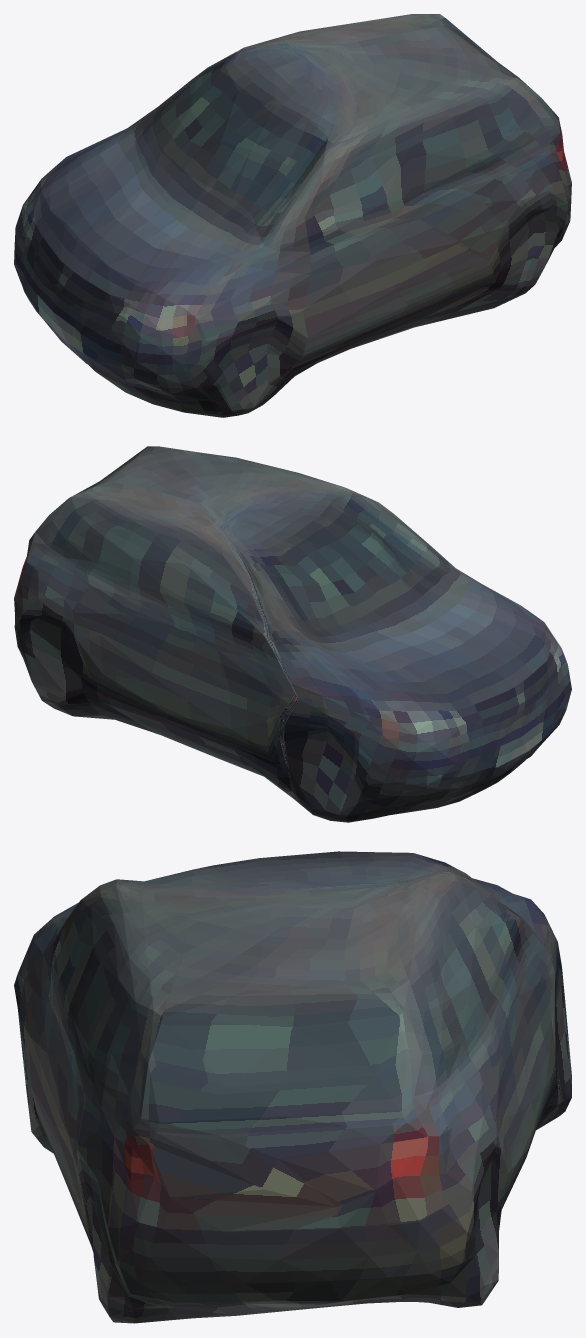
The model's file is video3_6.obj.
3 views of the same model, one above another, from view 1: azimuth 30°, elevation 25°; view 2: azimuth 150°, elevation 25°; view 3: azimuth 270°, elevation 25° (orthographic). The views are drawn at different scales.
Bounding box in the file's own units: 1 × 0.4955 × 0.6497.
Materials: 1 (1 with a texture image).
